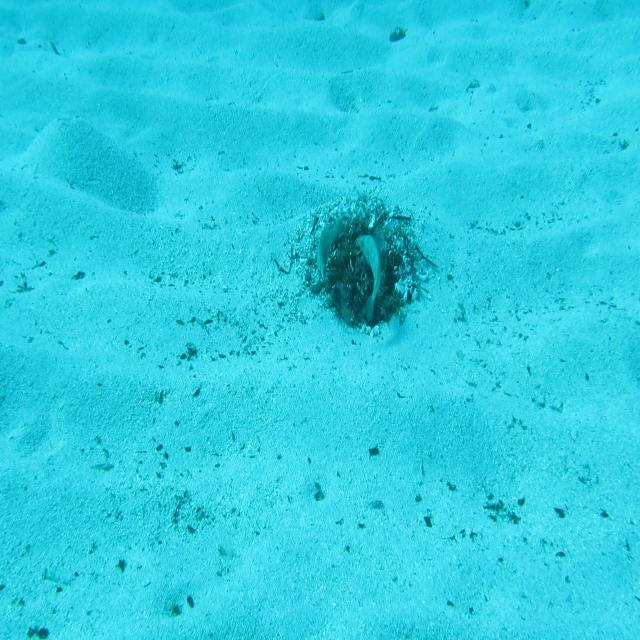DAN_CIRC: (356, 231, 382, 325)
female: (315, 211, 345, 286)
nest: (310, 200, 430, 334)
